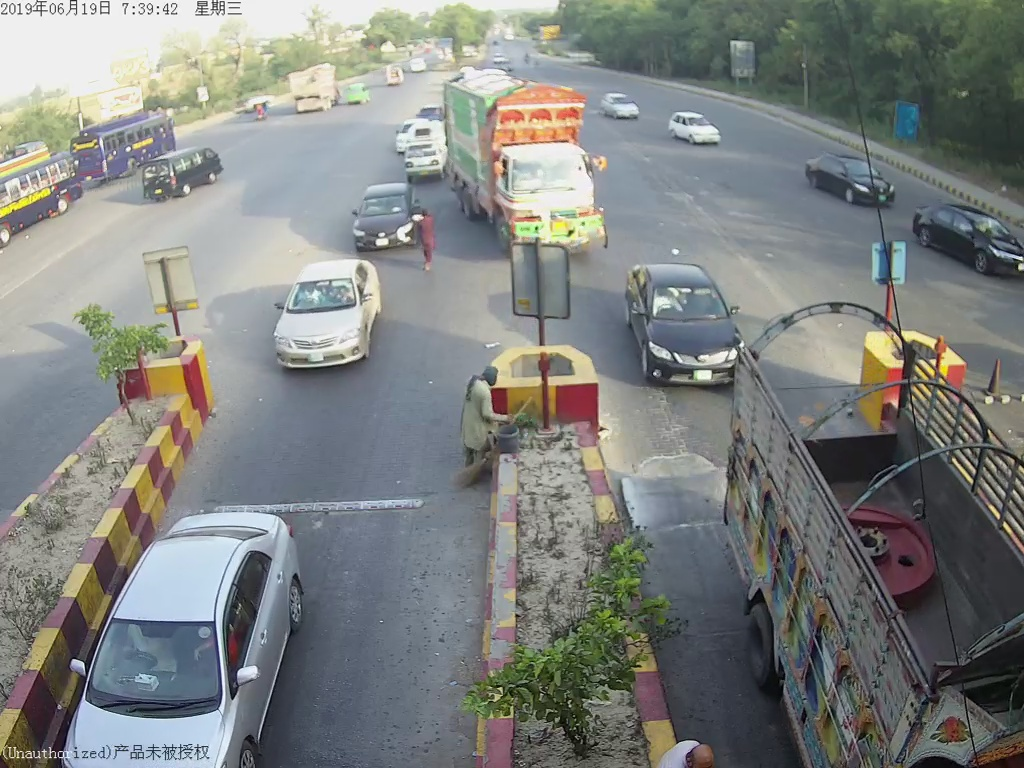Cat-1: (624, 249, 733, 388), (268, 261, 384, 371), (348, 183, 409, 256)
Cat-4: (445, 76, 607, 251)
